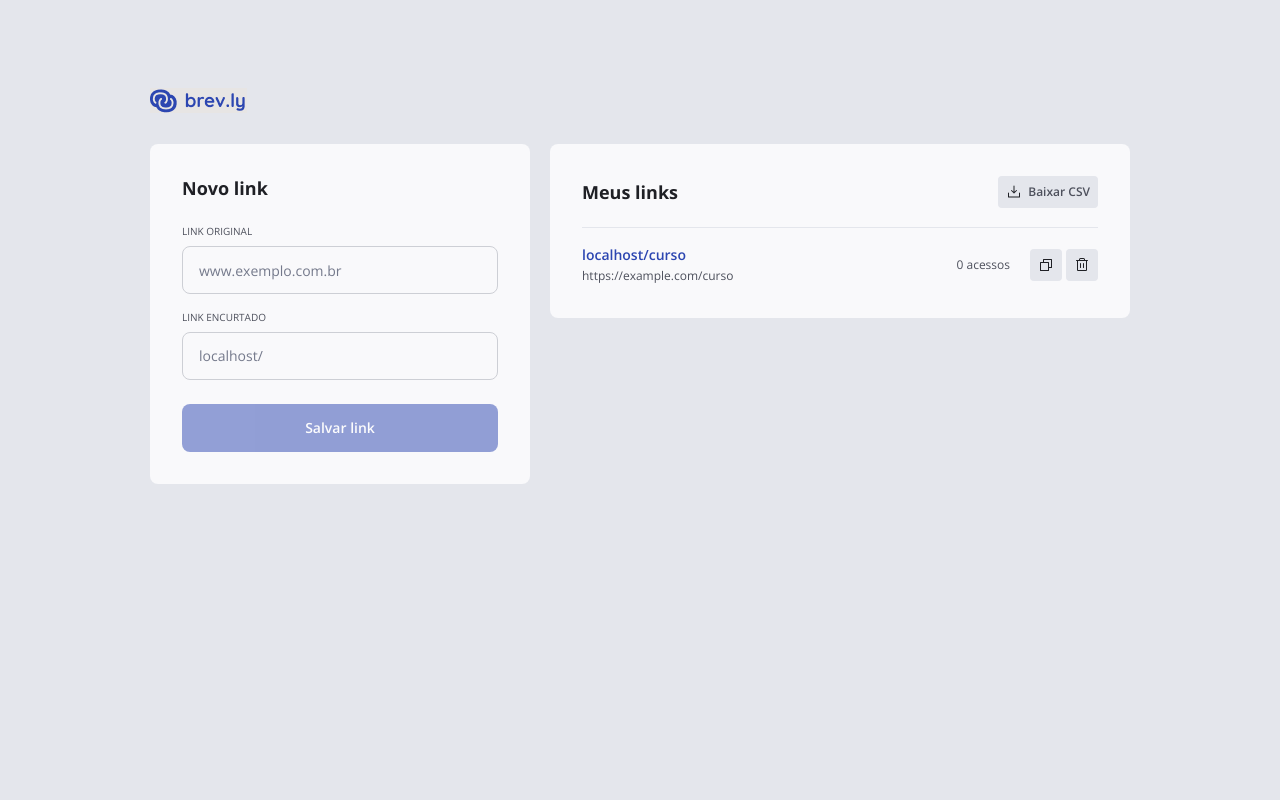
it: Página inicial › exporta e baixa o relatório pela URL retornada
Expected: the link "localhost/curso" is shown, top-left (582, 245), bottom-right (686, 264)
Click the button "Baixar CSV" at (1048, 192), box top-left (998, 176), bottom-right (1098, 208)
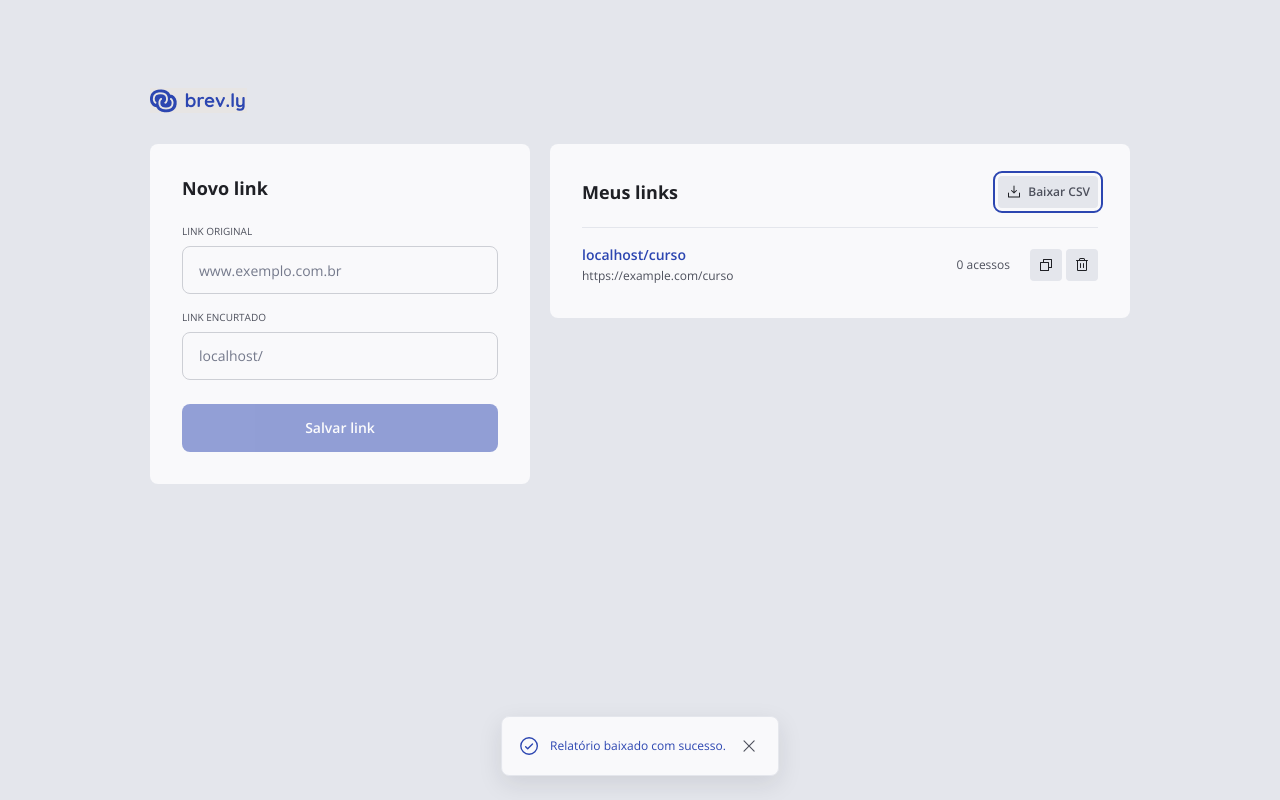
Expected: the text "Relatório baixado com sucesso." is shown, top-left (550, 737), bottom-right (726, 755)
